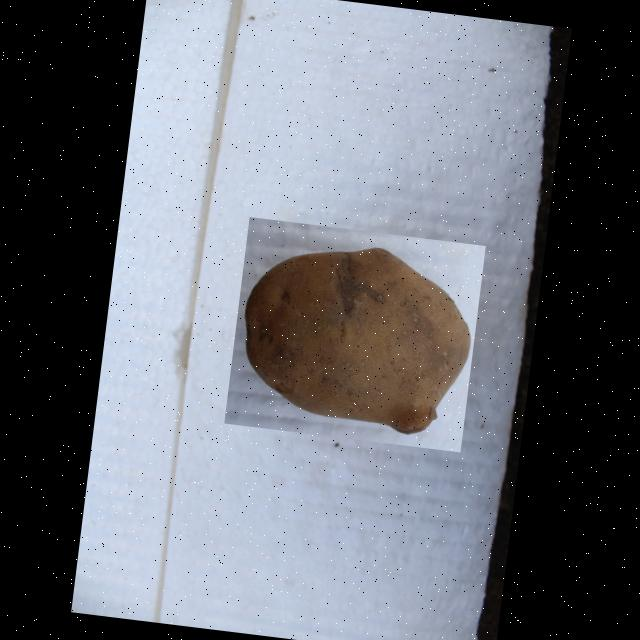Damaged potato: (222, 216, 484, 452)
